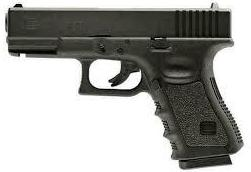gun: (1, 1, 251, 172)
